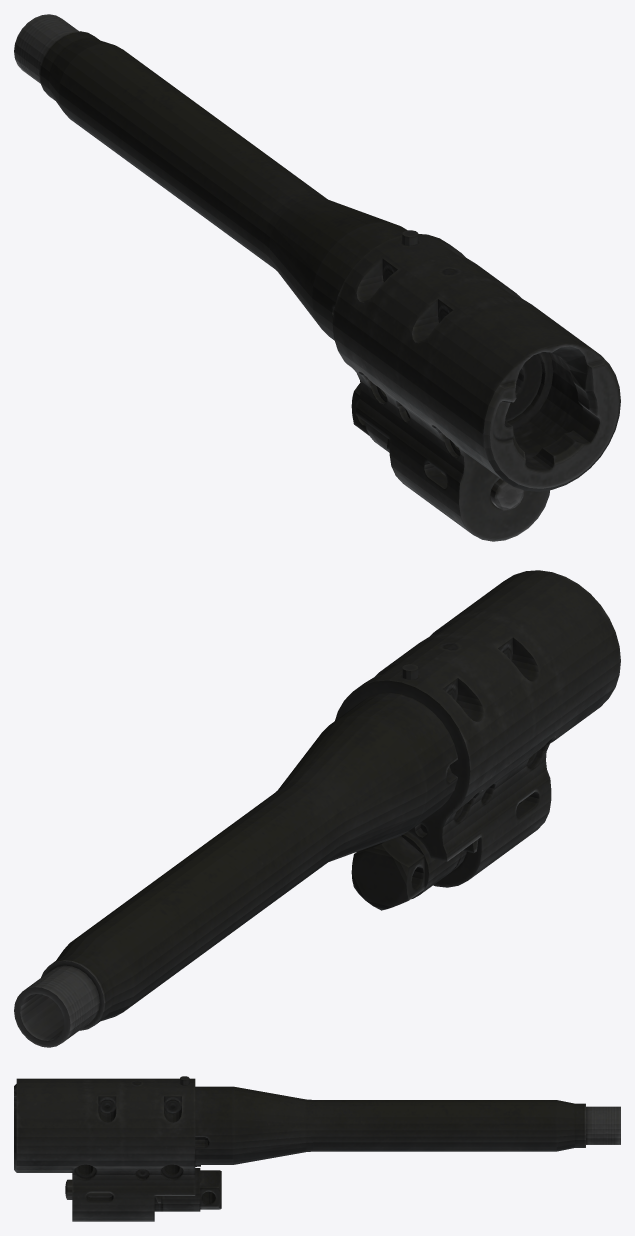
3 views of the same model, one above another, from view 1: azimuth 30°, elevation 25°; view 2: azimuth 150°, elevation 25°; view 3: azimuth 270°, elevation 25° (orthographic). The views are drawn at different scales.
Parts seen in each view (by area): view 1: TW_5c5db5962e2216000e5e46eb_PZ_Import; view 2: TW_5c5db5962e2216000e5e46eb_PZ_Import; view 3: TW_5c5db5962e2216000e5e46eb_PZ_Import.
Part boxes in pixels (box(x1,y1,x2,y2)): TW_5c5db5962e2216000e5e46eb_PZ_Import: box(14, 14, 620, 541); TW_5c5db5962e2216000e5e46eb_PZ_Import: box(14, 570, 620, 1047); TW_5c5db5962e2216000e5e46eb_PZ_Import: box(14, 1076, 620, 1221).
Size of the model in its own units: 0.016 by 0.1028 by 0.0263.
1 material, 1 textured.
